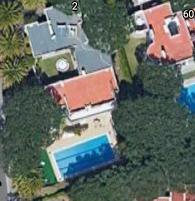pool: (52, 133, 119, 180), (176, 83, 194, 123)
